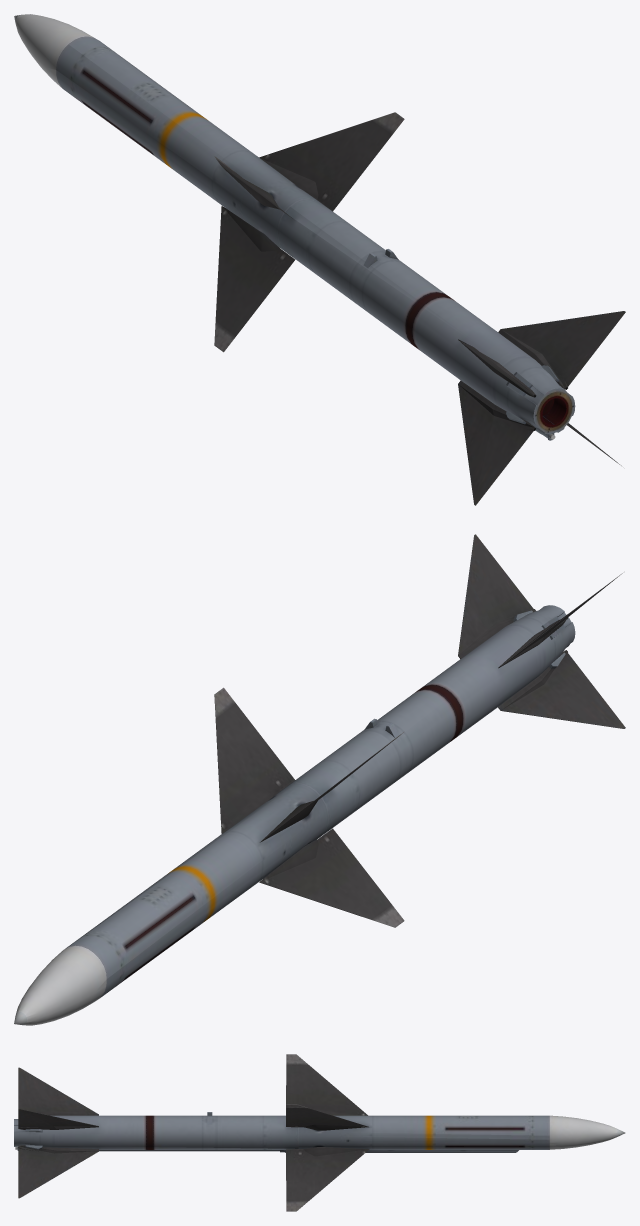
The model's file is aam_aim7.glb.
3 views of the same model, one above another, from view 1: azimuth 30°, elevation 25°; view 2: azimuth 150°, elevation 25°; view 3: azimuth 270°, elevation 25° (orthographic). The views are drawn at different scales.
Parts seen in each view (by area): view 1: body|w_saam_a0-Mat; view 2: body|w_saam_a0-Mat; view 3: body|w_saam_a0-Mat.
Boxes of the visible parts, x1,y1,x2,y2 form: body|w_saam_a0-Mat: (14, 14, 625, 505); body|w_saam_a0-Mat: (14, 534, 625, 1025); body|w_saam_a0-Mat: (14, 1054, 625, 1211).
Size of the model in its own units: 0.7075 by 0.7075 by 3.65.
1 material, 1 textured.
